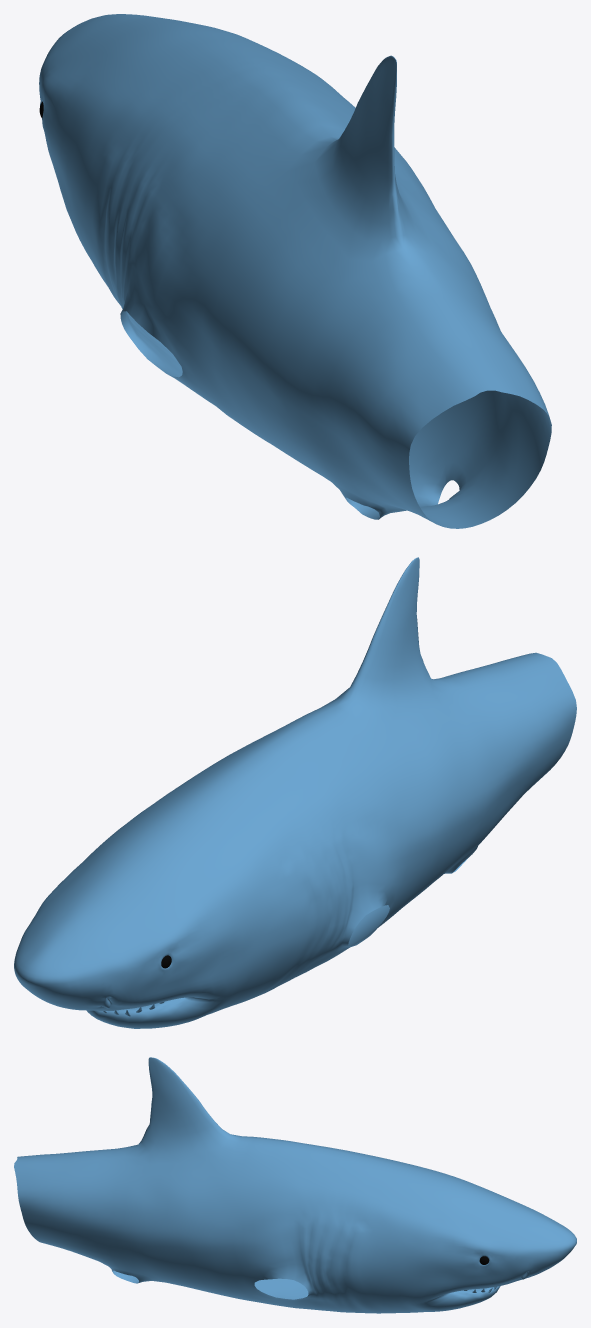
The model's file is Tiburonsin_uhaha.obj.
3 views of the same model, one above another, from view 1: azimuth 30°, elevation 25°; view 2: azimuth 150°, elevation 25°; view 3: azimuth 270°, elevation 25° (orthographic). The views are drawn at different scales.
Parts seen in each view (by area): view 1: Tuburonsin_Uhaha_shark.002_shark.004; view 2: Tuburonsin_Uhaha_shark.002_shark.004; view 3: Tuburonsin_Uhaha_shark.002_shark.004.
Part boxes in pixels (bbox=[...]): Tuburonsin_Uhaha_shark.002_shark.004: bbox=[39, 14, 551, 528]; Tuburonsin_Uhaha_shark.002_shark.004: bbox=[14, 557, 576, 1028]; Tuburonsin_Uhaha_shark.002_shark.004: bbox=[14, 1057, 576, 1313].
Size of the model in its own units: 26.14 by 39.04 by 83.7.
